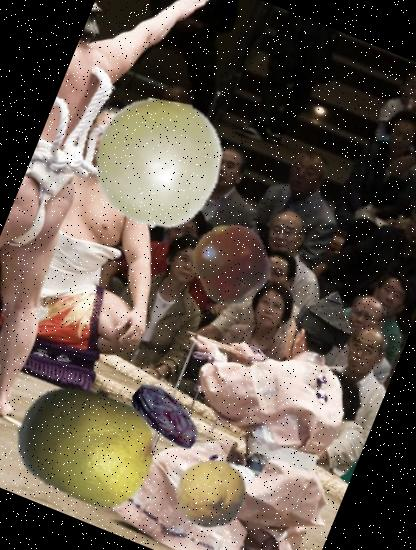Dates: (116, 364, 218, 467)
Grape: (74, 80, 240, 247)
Lemon: (163, 447, 257, 541)
Pomelo: (0, 351, 178, 536)
Tomato: (178, 212, 283, 316)
